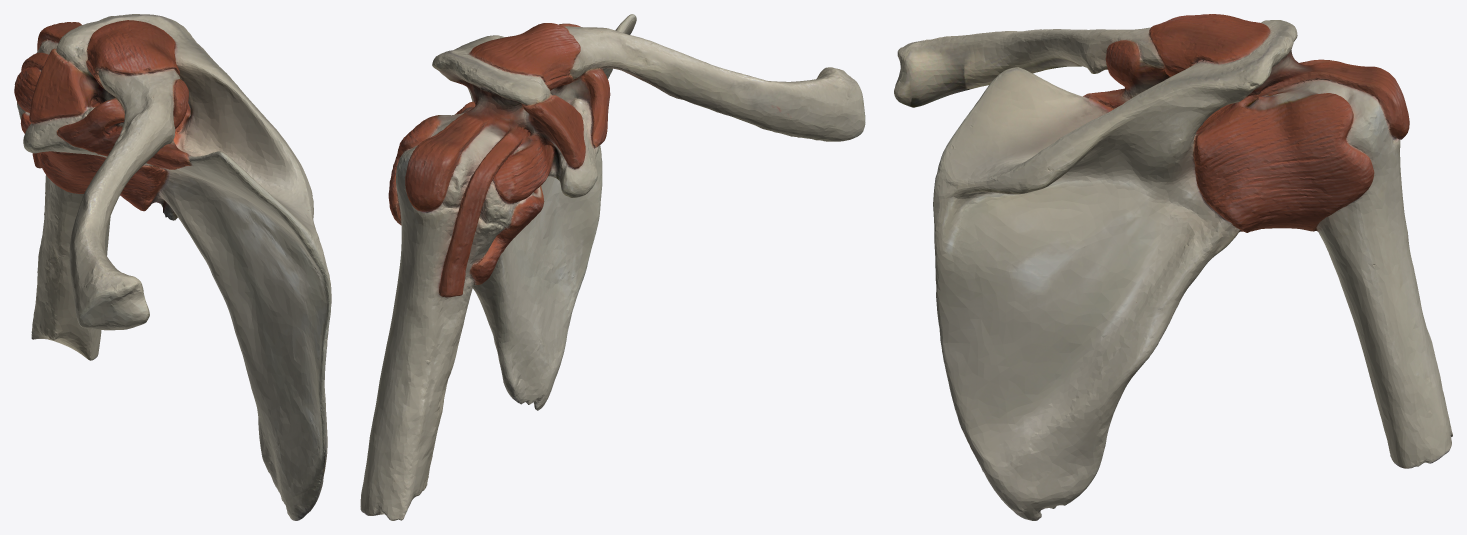
The model's file is shoulder.glb.
The picture shows the model from 3 angles, left to right: view 1: azimuth 30°, elevation 25°; view 2: azimuth 150°, elevation 25°; view 3: azimuth 270°, elevation 25°; orthographic projection. The views are drawn at different scales.
Parts seen in each view (by area): view 1: Sharp Fusion 1; view 2: Sharp Fusion 1; view 3: Sharp Fusion 1.
Part boxes in pixels (x1,y1,x2,y2): Sharp Fusion 1: (14, 14, 331, 520); Sharp Fusion 1: (360, 14, 865, 520); Sharp Fusion 1: (894, 14, 1452, 520).
Size of the model in its own units: 112 by 167 by 183.
1 material, 1 textured.
